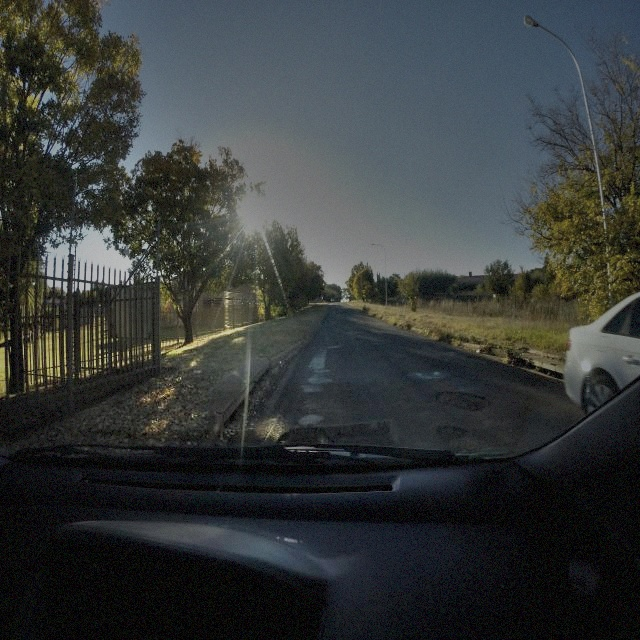pothole: (435, 388, 491, 413), (277, 427, 337, 449), (436, 423, 467, 442)
